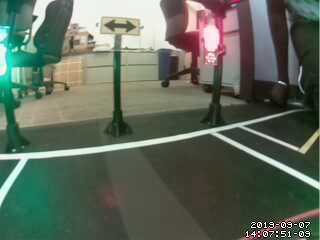Left_Right_sign: (100, 15, 143, 37)
Traffic_light_green: (1, 27, 6, 75)
Traffic_light_red: (203, 21, 220, 63)
